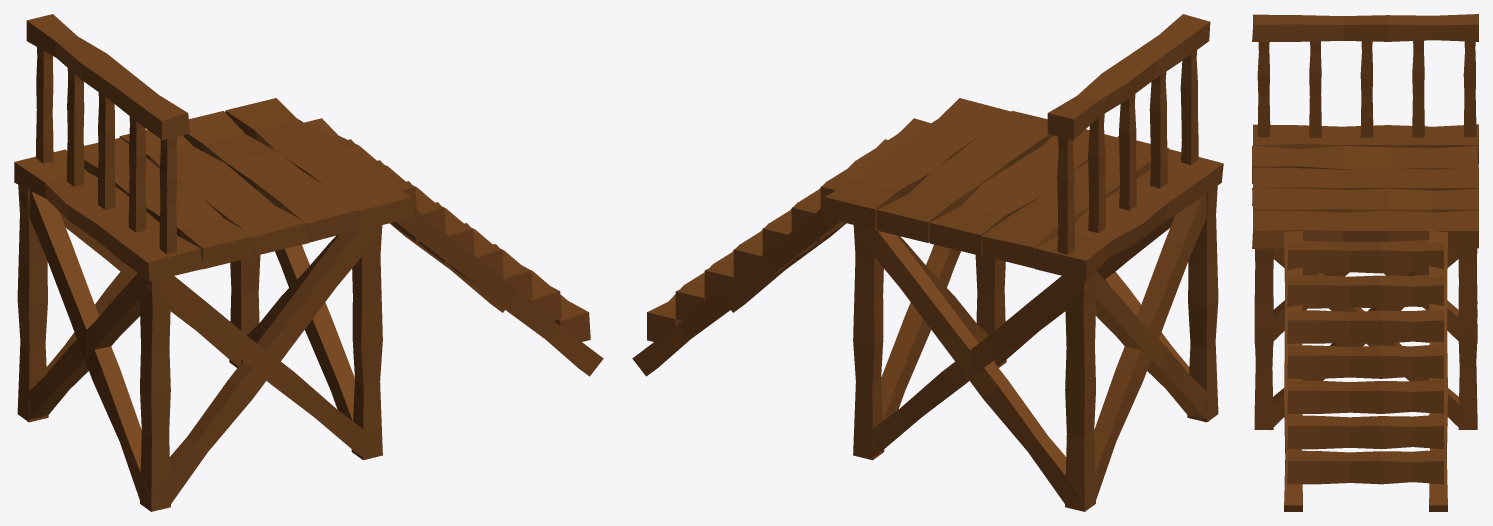
The model's file is ArcherStand.fbx.
3 renders of one model, left to right at view 1: azimuth 30°, elevation 25°; view 2: azimuth 150°, elevation 25°; view 3: azimuth 270°, elevation 25°, orthographic. The views are drawn at different scales.
Visible parts, largest first — view 1: ArcherStand; view 2: ArcherStand; view 3: ArcherStand.
Boxes of the visible parts, <box> form: ArcherStand: <box>14,14,603,511</box>; ArcherStand: <box>632,14,1223,511</box>; ArcherStand: <box>1252,14,1478,511</box>.
Bounding box in the file's own units: 3587 × 2824 × 1780.
